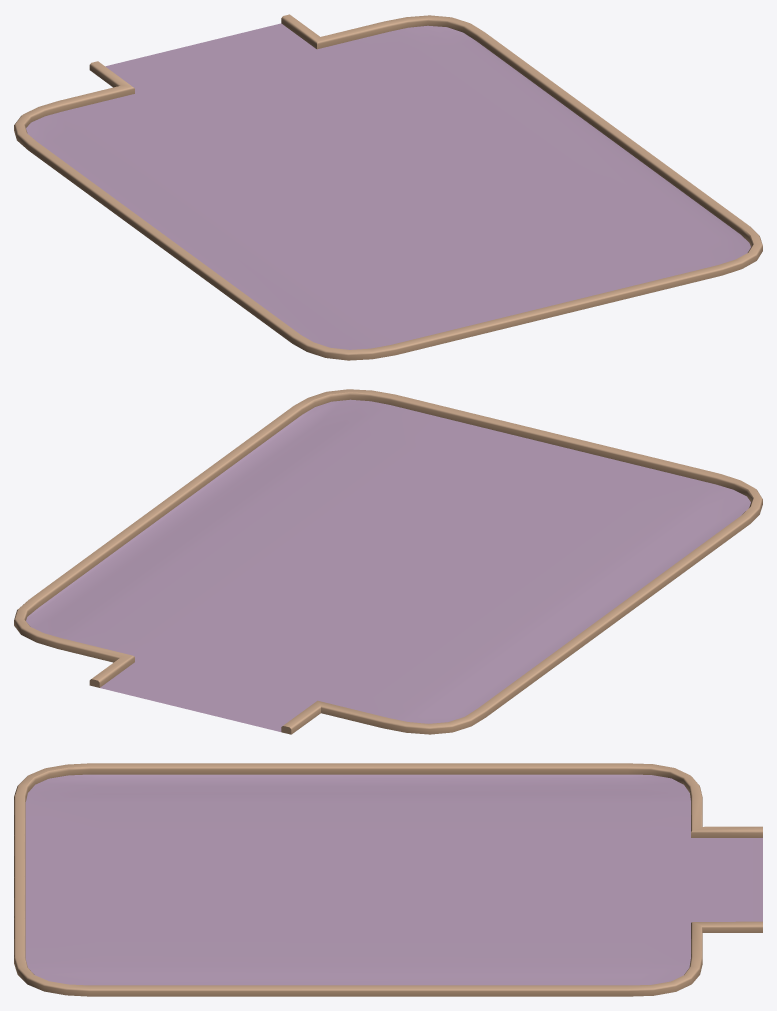
Rendered from LuffyRoad_Stage_cn.fbx.
3 renders of one model, top to bottom at view 1: azimuth 30°, elevation 25°; view 2: azimuth 150°, elevation 25°; view 3: azimuth 270°, elevation 25°, orthographic.
Parts seen in each view (by area): view 1: LUFFY_Road_stage_large, LUFFY_Road_stage_large3; view 2: LUFFY_Road_stage_large, LUFFY_Road_stage_large3; view 3: LUFFY_Road_stage_large, LUFFY_Road_stage_large3.
Part boxes in pixels (x1,y1,x2,y2): LUFFY_Road_stage_large: (26, 23, 750, 349); LUFFY_Road_stage_large3: (14, 14, 762, 360); LUFFY_Road_stage_large: (26, 399, 750, 731); LUFFY_Road_stage_large3: (14, 389, 762, 734); LUFFY_Road_stage_large: (25, 774, 762, 985); LUFFY_Road_stage_large3: (14, 763, 762, 996).
Size of the model in its own units: 1362 by 30.41 by 1899.
